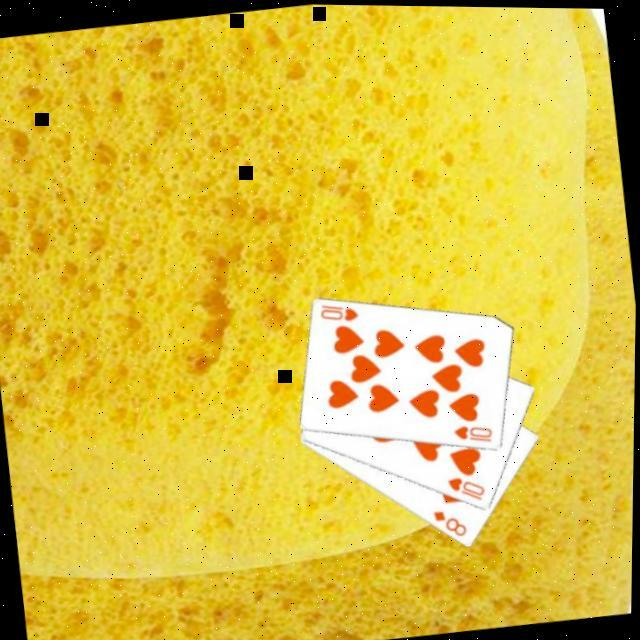10H: (448, 470, 492, 506), (319, 296, 365, 328), (453, 417, 499, 448)
8D: (432, 504, 474, 542)
